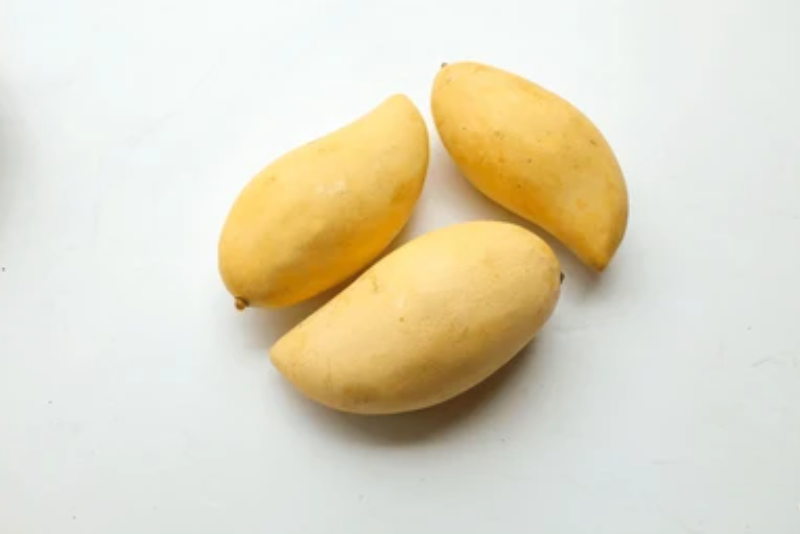mango: (271, 215, 562, 420), (220, 90, 429, 311), (431, 54, 630, 272)
